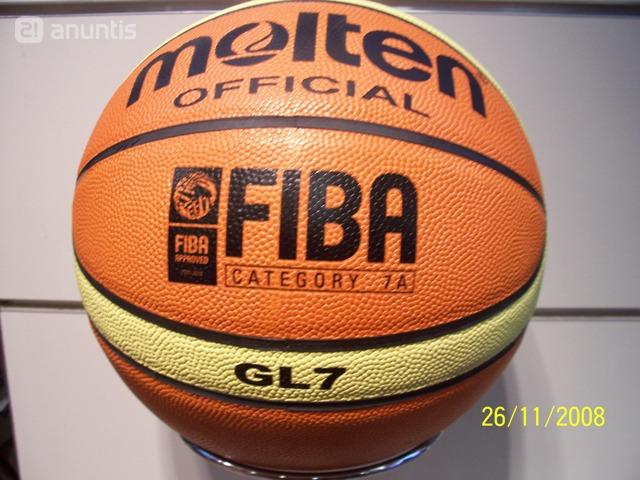basketball: (71, 1, 548, 475)
